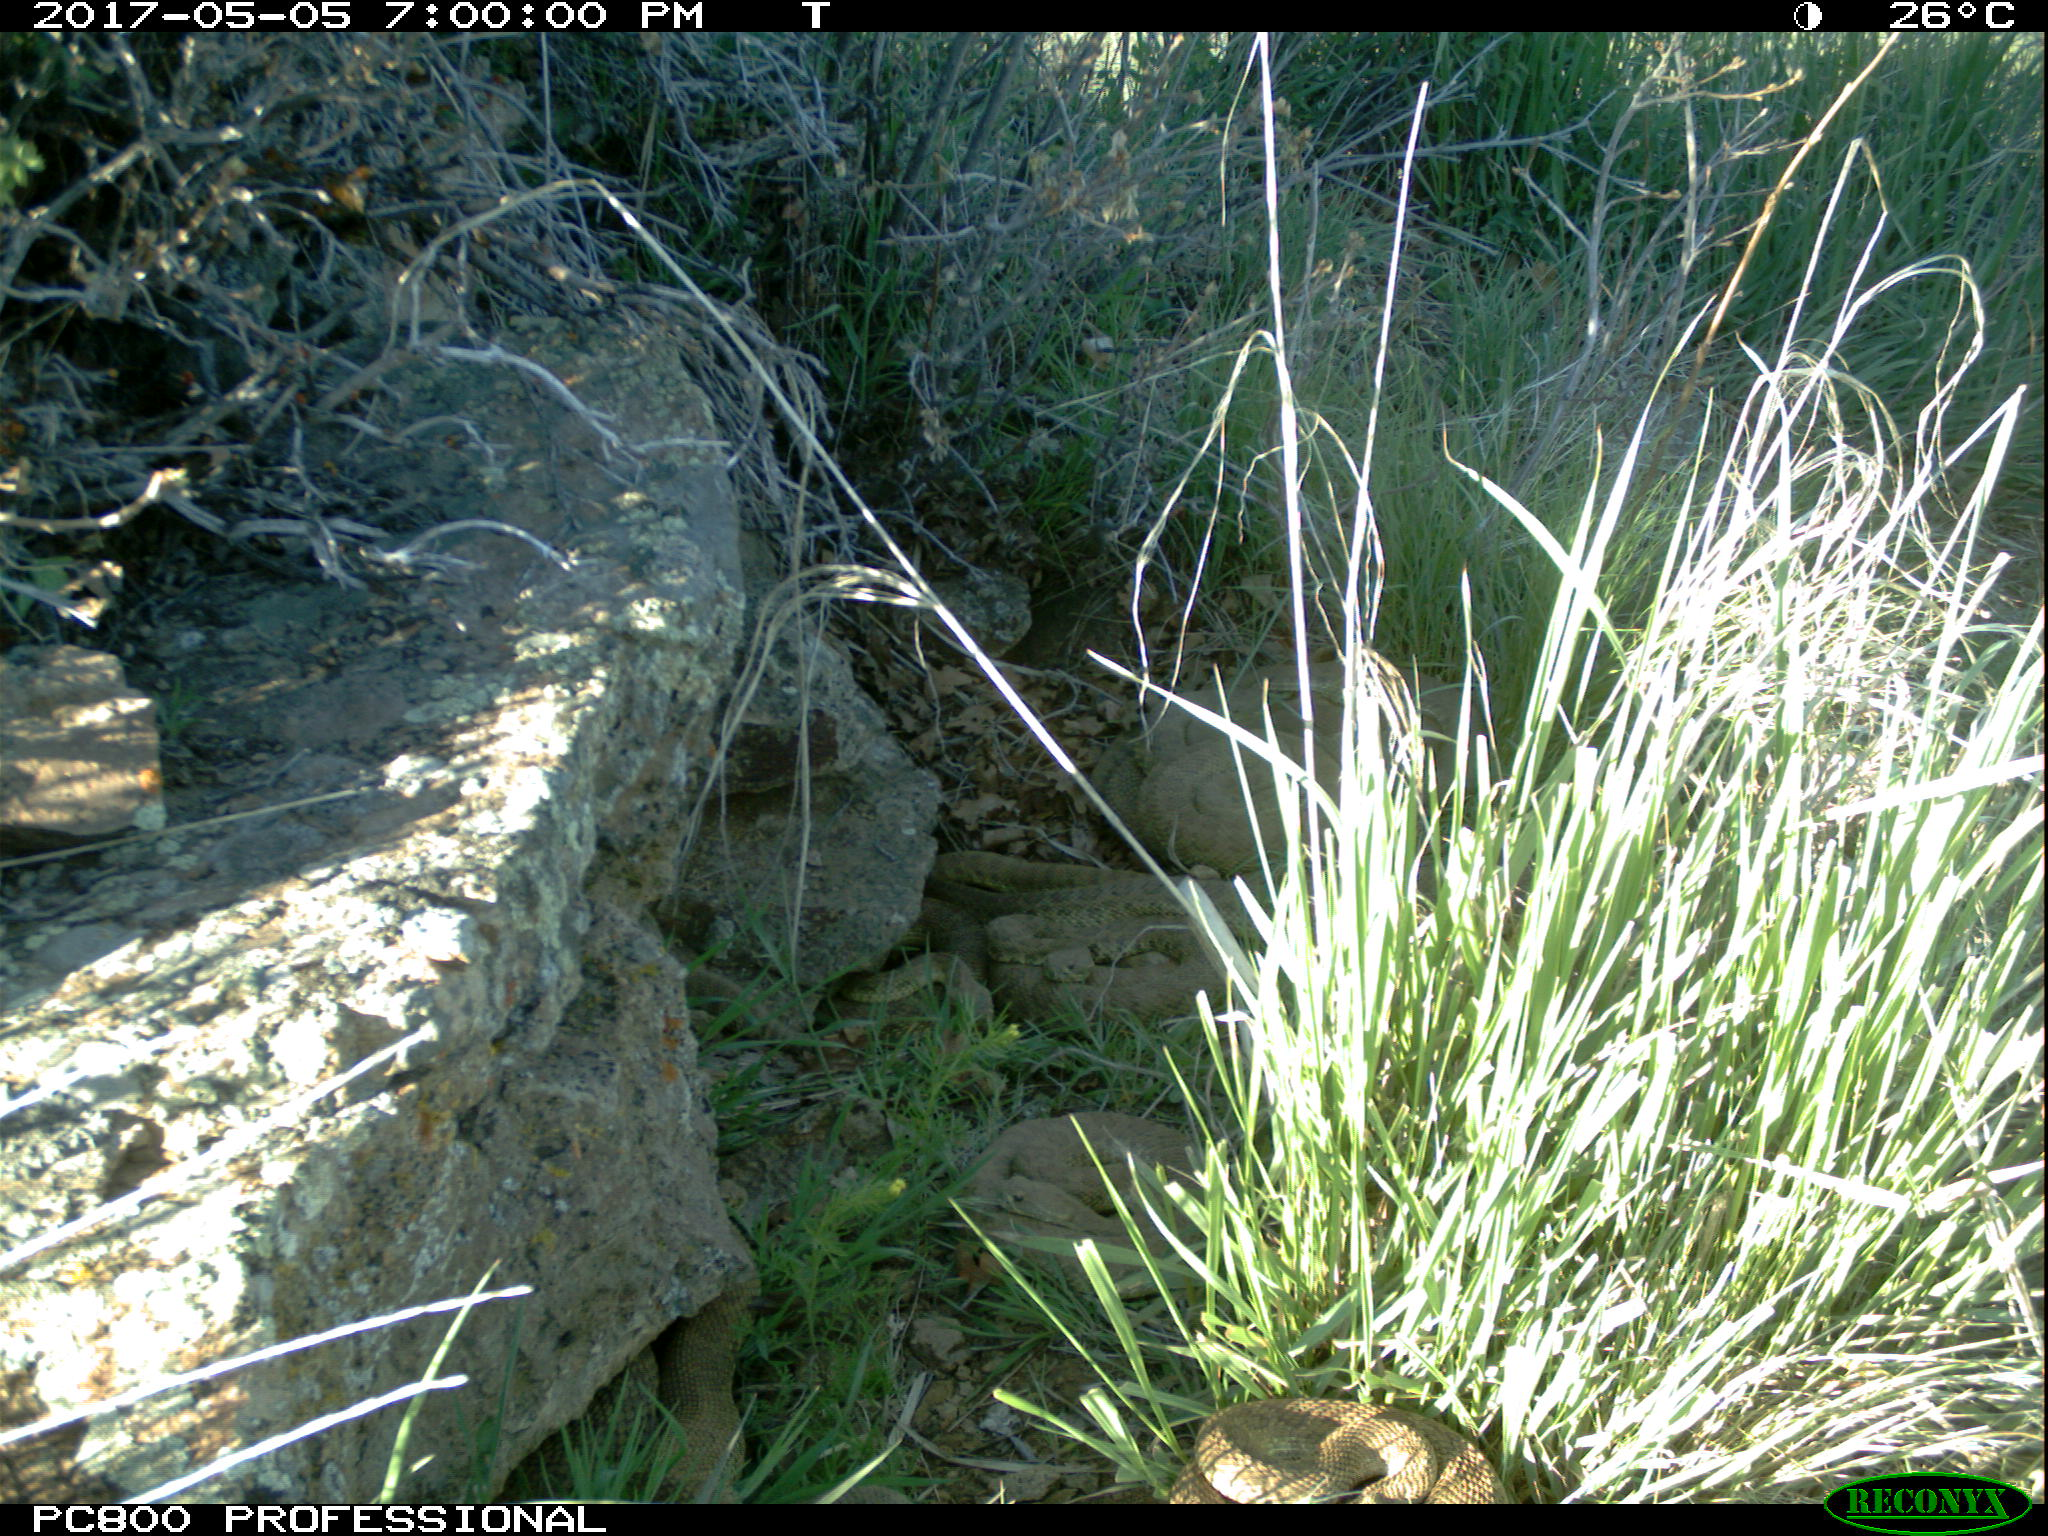snake: (1092, 658, 1505, 871), (914, 852, 1285, 1021), (1176, 1396, 1509, 1505), (964, 1120, 1230, 1252), (574, 1304, 758, 1481)
